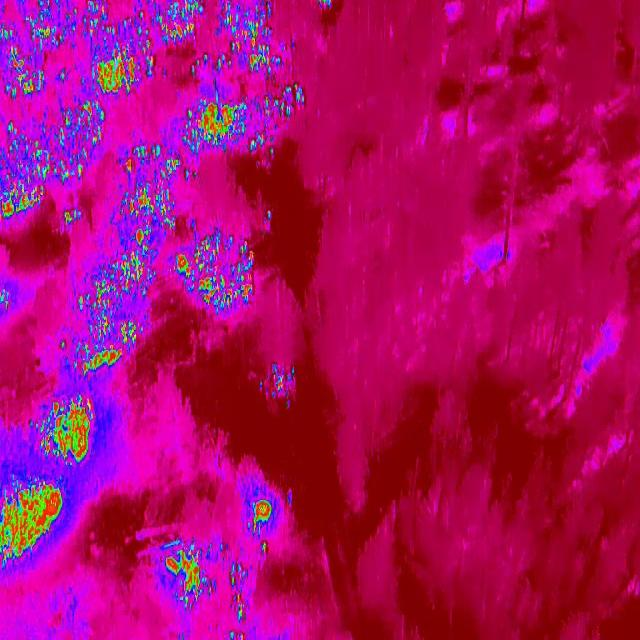fire: (1, 393, 96, 568), (1, 101, 110, 229), (74, 238, 160, 378), (154, 8, 296, 88), (168, 92, 314, 158), (172, 222, 267, 320), (120, 144, 187, 248), (0, 12, 75, 102), (84, 27, 169, 98), (160, 534, 220, 614), (229, 552, 260, 640), (240, 486, 283, 543), (269, 364, 295, 404), (0, 285, 12, 315), (56, 337, 70, 352), (266, 204, 276, 221), (261, 539, 270, 556), (288, 487, 293, 498)
